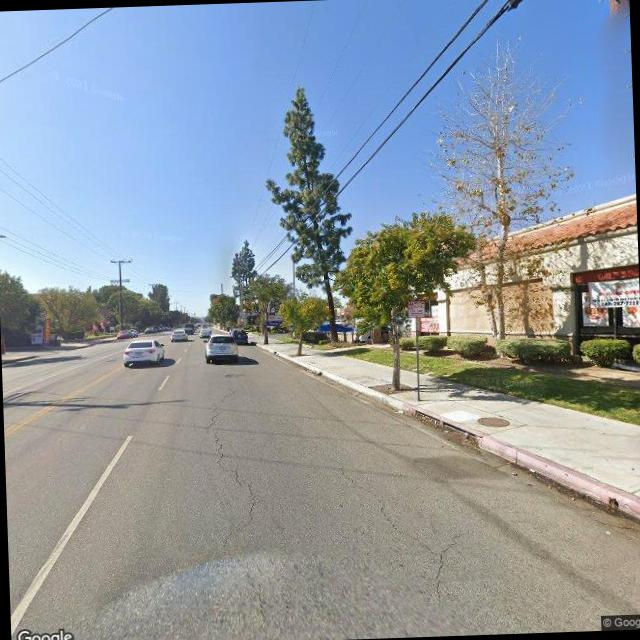crack: (314, 445, 450, 587), (206, 391, 266, 525)
